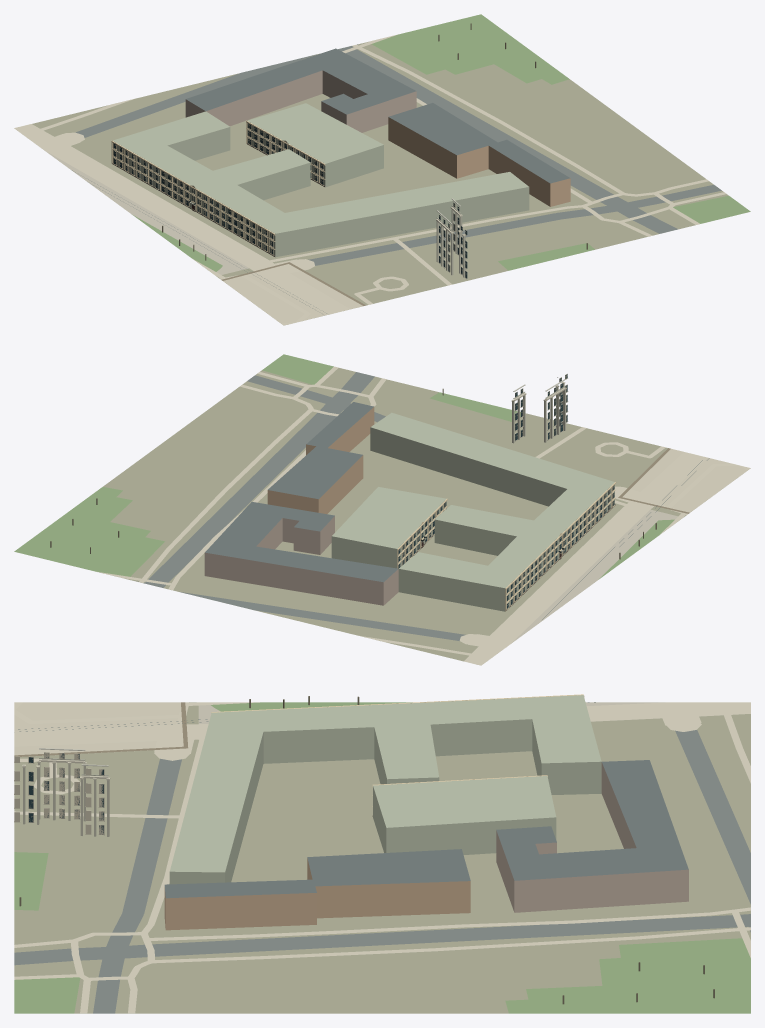
File: sector-0_-1.glb
3 renders of one model, top to bottom at view 1: azimuth 30°, elevation 25°; view 2: azimuth 150°, elevation 25°; view 3: azimuth 270°, elevation 25°, orthographic. The views are drawn at different scales.
Parts seen in each view (by area): view 1: 0:-1-ground, 0:-1-masonry, 0:-1-paving, 0:-1-park, 0:-1-facade, 0:-1-roof, 0:-1-road, 0:-1-stone, 0:-1-glass, 0:-1-boulevard; view 2: 0:-1-ground, 0:-1-masonry, 0:-1-paving, 0:-1-park, 0:-1-roof, 0:-1-facade, 0:-1-road, 0:-1-stone, 0:-1-boulevard, 0:-1-glass; view 3: 0:-1-ground, 0:-1-masonry, 0:-1-paving, 0:-1-road, 0:-1-park, 0:-1-facade, 0:-1-roof, 0:-1-stone.
Boxes of the visible parts, left/top/right/bottom form: 0:-1-ground: left=32, top=41, right=728, bottom=324; 0:-1-masonry: left=112, top=103, right=529, bottom=257; 0:-1-paving: left=14, top=35, right=726, bottom=325; 0:-1-park: left=131, top=14, right=750, bottom=271; 0:-1-facade: left=185, top=70, right=570, bottom=206; 0:-1-roof: left=186, top=48, right=570, bottom=183; 0:-1-road: left=75, top=44, right=721, bottom=265; 0:-1-stone: left=111, top=120, right=466, bottom=278; 0:-1-glass: left=114, top=123, right=467, bottom=278; 0:-1-boulevard: left=44, top=150, right=248, bottom=276; 0:-1-ground: left=103, top=368, right=742, bottom=661; 0:-1-masonry: left=331, top=412, right=614, bottom=611; 0:-1-paving: left=98, top=366, right=750, bottom=665; 0:-1-park: left=14, top=354, right=674, bottom=579; 0:-1-roof: left=205, top=402, right=398, bottom=582; 0:-1-facade: left=204, top=407, right=398, bottom=605; 0:-1-road: left=136, top=372, right=465, bottom=640; 0:-1-stone: left=397, top=373, right=616, bottom=611; 0:-1-boulevard: left=473, top=509, right=677, bottom=663; 0:-1-glass: left=398, top=374, right=614, bottom=608; 0:-1-ground: left=14, top=702, right=750, bottom=1013; 0:-1-masonry: left=169, top=695, right=601, bottom=884; 0:-1-paving: left=14, top=702, right=750, bottom=1013; 0:-1-road: left=14, top=730, right=750, bottom=1013; 0:-1-park: left=14, top=702, right=750, bottom=1013; 0:-1-facade: left=164, top=762, right=688, bottom=930; 0:-1-roof: left=164, top=760, right=688, bottom=898; 0:-1-stone: left=14, top=694, right=584, bottom=836.
Bounding box in the file's own units: 200 × 21.52 × 200.
